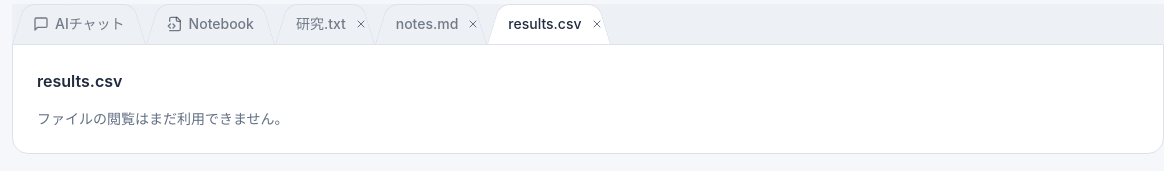
Test: TEST-UI-008 closes views only, retaining inactive selection and choosing/focusing the nearest file
This screenshot has width=1164, height=171.
Click the button named "タブを閉じる: 研究.txt".
click(361, 24)  # box [351,14,371,34]
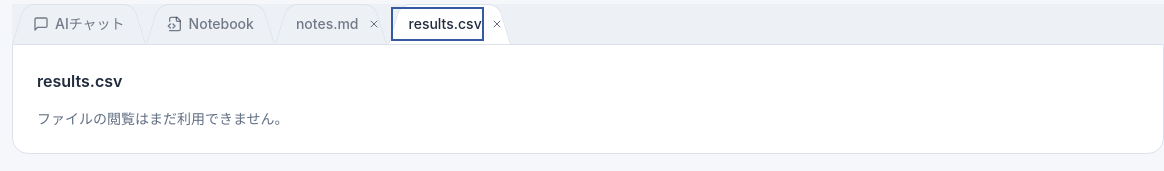
Click the button named "タブを閉じる: results.csv".
click(497, 24)  # box [487,14,507,34]
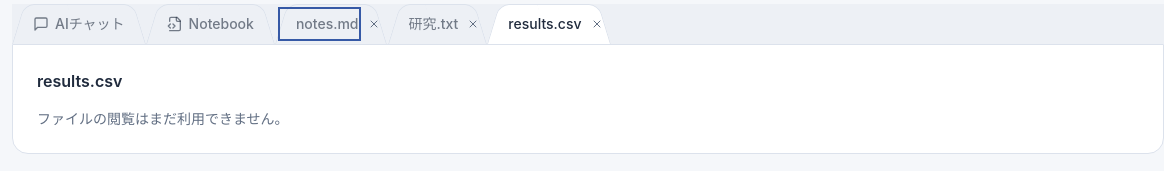
Click the tab "notes.md".
click(319, 24)  # box [275,4,364,44]
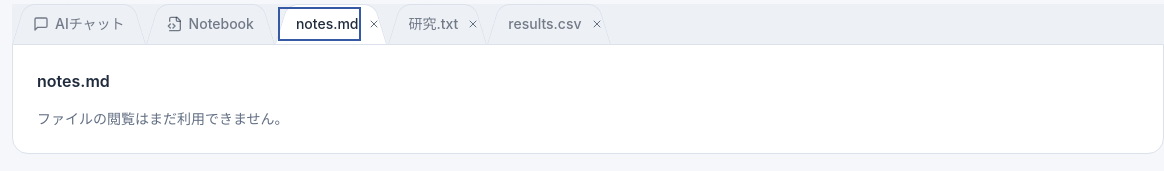
Click the button named "タブを閉じる: notes.md".
click(374, 24)  # box [364,14,384,34]
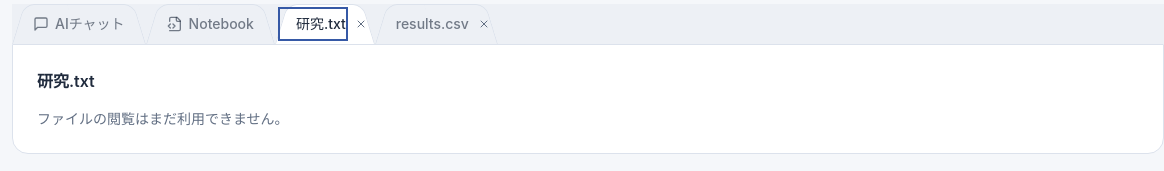
Press Delete
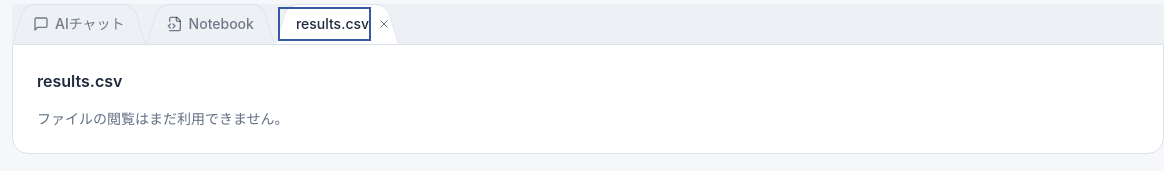
Press Delete
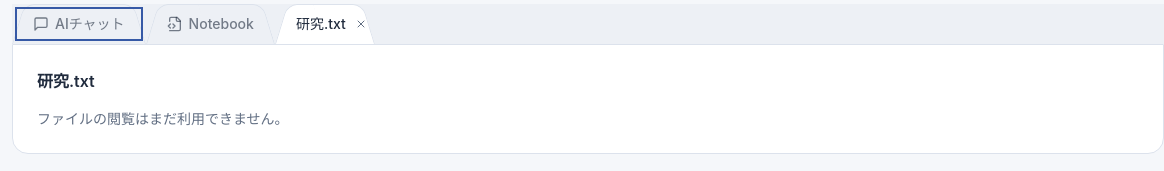
Expected: the tab "results.csv" is not shown
Expected: the tab "研究.txt" is selected, [275,4,351,44]
